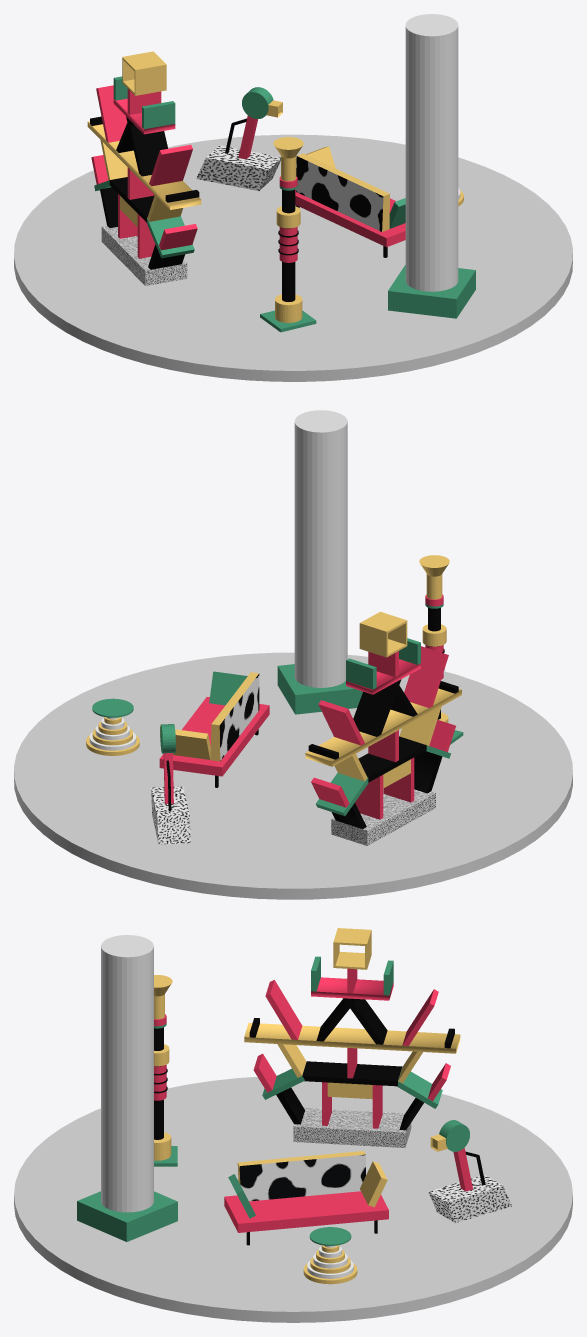
The model's file is STANZA1.gltf.
The picture shows the model from 3 angles, top to bottom: view 1: azimuth 30°, elevation 25°; view 2: azimuth 150°, elevation 25°; view 3: azimuth 270°, elevation 25°; orthographic projection.
Parts seen in each view (by area): view 1: Cylinder, Cylinder.089, Cube.005, Cube.103, Cube.022, Cube.114, Cube.112, Cube.030, Cube.115, Cube.117, Cube.121, Cube.116 (+17 smaller); view 2: Cylinder, Cylinder.089, Cube.030, Cube.114, Cube.005, Cube.103, Cube.115, Cube.022, Cube.112, Cube.117, Cube.120, Cube.113 (+13 smaller); view 3: Cylinder, Cylinder.089, Cube.005, Cube.030, Cube.114, Cube.115, Cube.103, Cube.022, Cube.113, Cube.112, Cube.016, Cube.117 (+13 smaller).
Boxes of the visible parts, bbox=[...] form: Cylinder: bbox=[14, 134, 572, 381]; Cylinder.089: bbox=[405, 14, 458, 291]; Cube.005: bbox=[296, 153, 389, 231]; Cube.103: bbox=[388, 265, 475, 318]; Cube.022: bbox=[196, 145, 280, 190]; Cube.114: bbox=[101, 225, 187, 285]; Cube.112: bbox=[122, 51, 166, 95]; Cube.030: bbox=[295, 189, 405, 247]; Cube.115: bbox=[87, 121, 201, 209]; Cube.117: bbox=[149, 144, 192, 186]; Cube.121: bbox=[126, 116, 167, 176]; Cube.116: bbox=[96, 85, 127, 142]; Cylinder: bbox=[14, 652, 572, 899]; Cylinder.089: bbox=[294, 410, 347, 687]; Cube.030: bbox=[159, 697, 269, 776]; Cube.114: bbox=[331, 789, 435, 845]; Cube.005: bbox=[210, 672, 259, 761]; Cube.103: bbox=[277, 664, 362, 714]; Cube.115: bbox=[305, 688, 461, 766]; Cube.022: bbox=[151, 786, 190, 844]; Cube.112: bbox=[359, 611, 407, 657]; Cube.117: bbox=[404, 646, 448, 707]; Cube.120: bbox=[353, 679, 401, 736]; Cube.113: bbox=[358, 736, 426, 782]; Cylinder: bbox=[14, 1077, 572, 1322]; Cylinder.089: bbox=[101, 935, 153, 1212]; Cube.005: bbox=[237, 1151, 365, 1201]; Cube.030: bbox=[224, 1191, 388, 1232]; Cube.114: bbox=[293, 1107, 411, 1147]; Cube.115: bbox=[244, 1023, 460, 1053]; Cube.103: bbox=[77, 1191, 177, 1241]; Cube.022: bbox=[428, 1174, 511, 1222]; Cube.113: bbox=[302, 1061, 402, 1086]; Cube.112: bbox=[333, 928, 371, 969]; Cube.016: bbox=[311, 977, 393, 1000]; Cube.117: bbox=[265, 980, 302, 1039].
Bounding box in the file's own units: 4.37 × 2.47 × 4.37.
13 materials, 3 textured.
